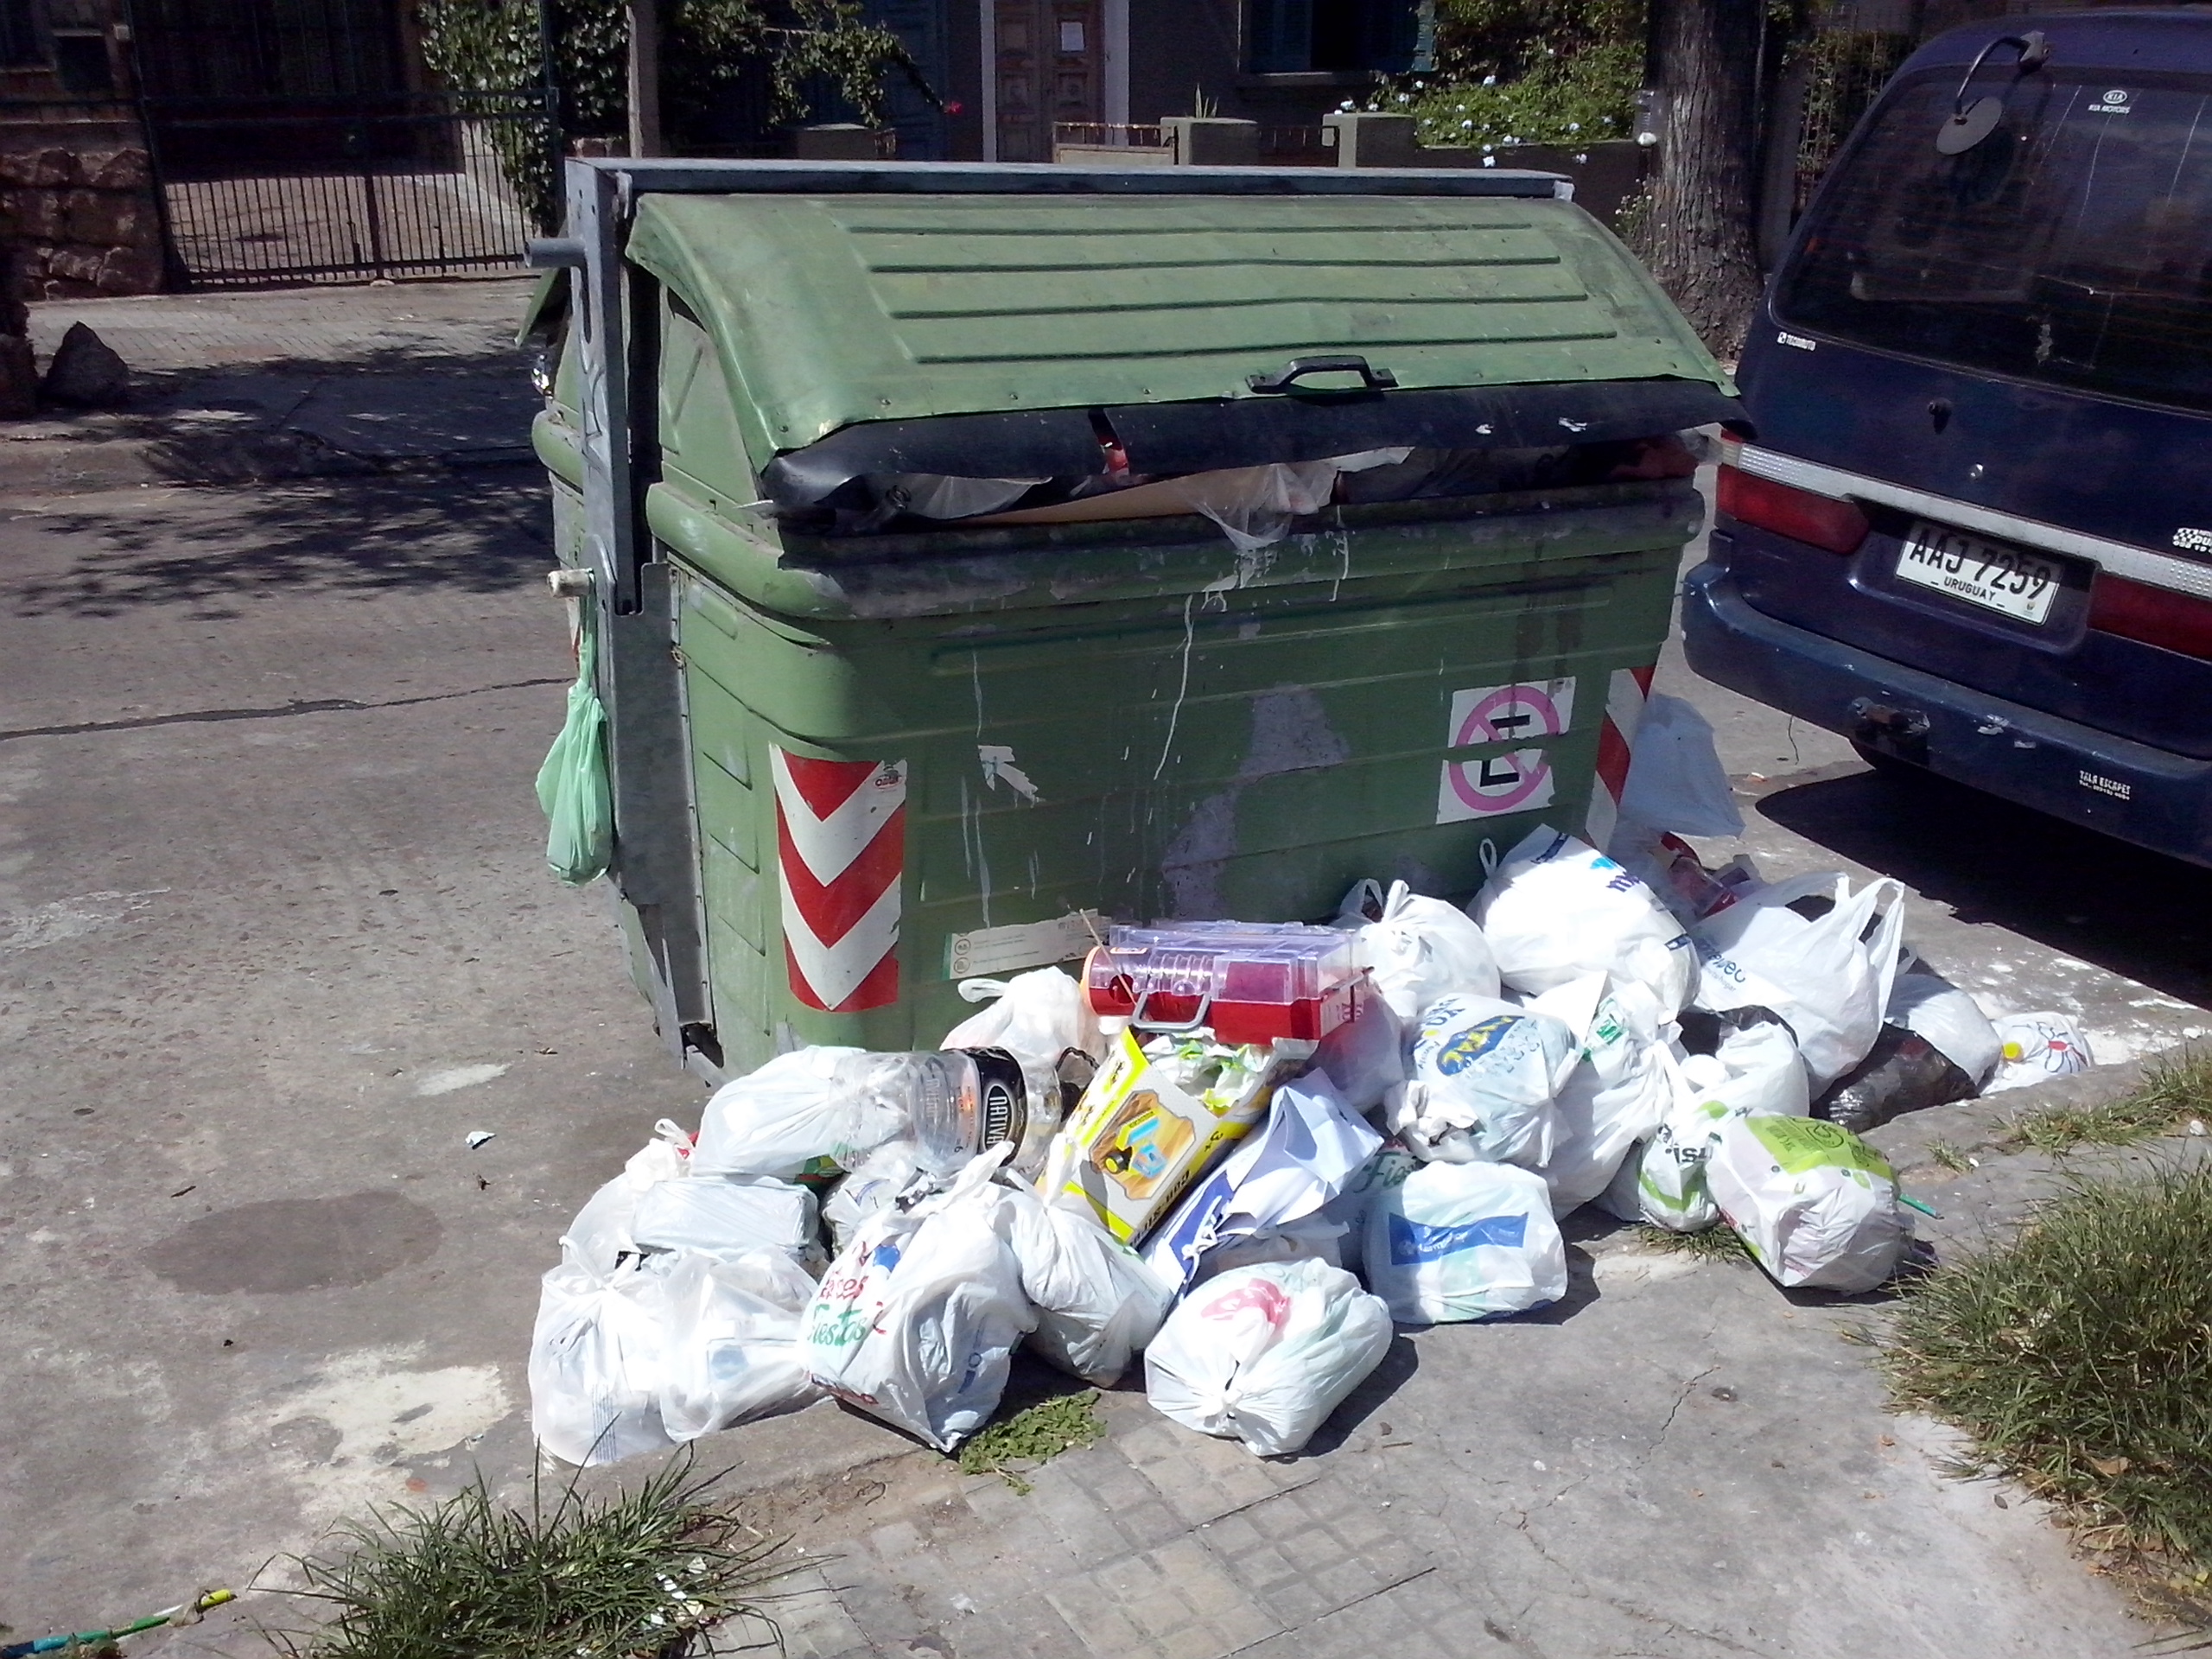container: (503, 146, 1757, 1119)
